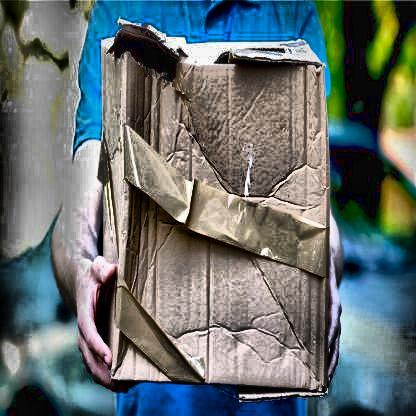defect parcel: (63, 23, 350, 405)
